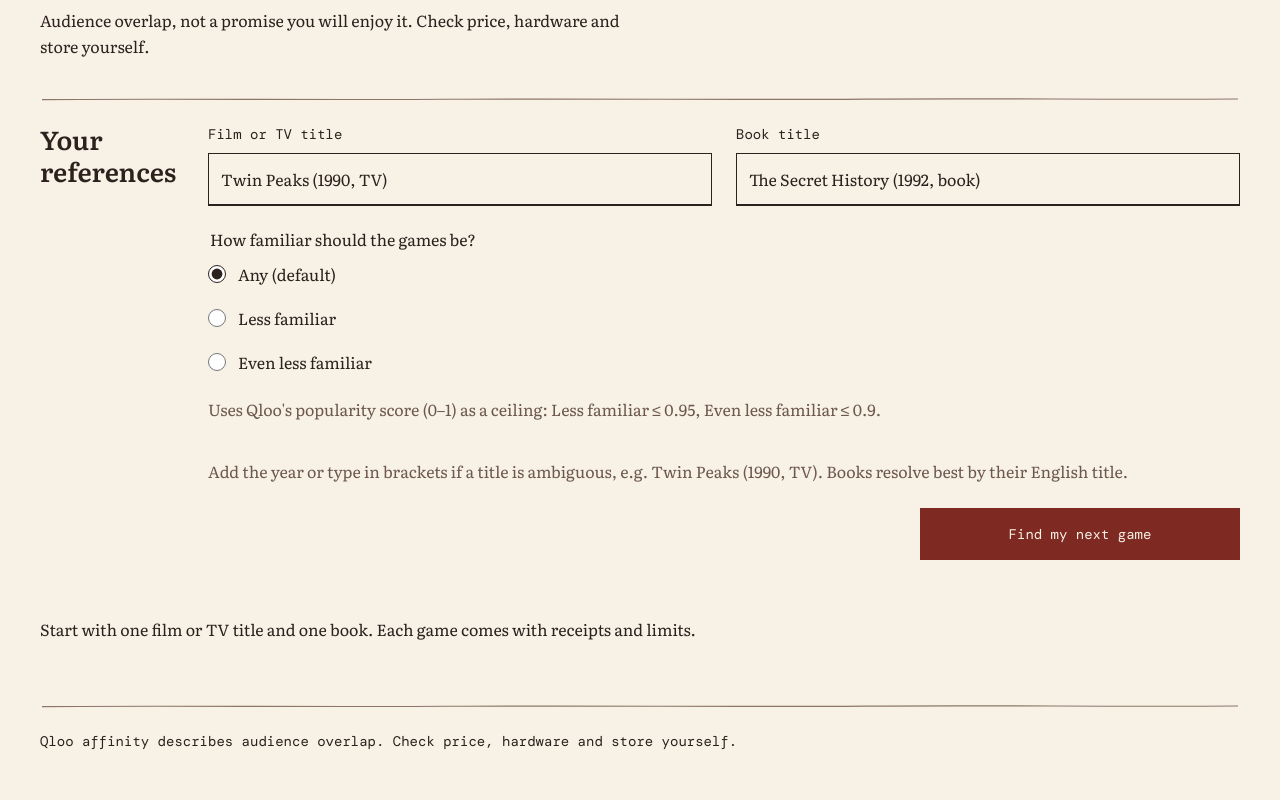
shows the Demo LLM budget reached for this month; cached example still available error
(page scrolled)
Click the button "Find my next game" at (1080, 534), box [920,508,1240,560]
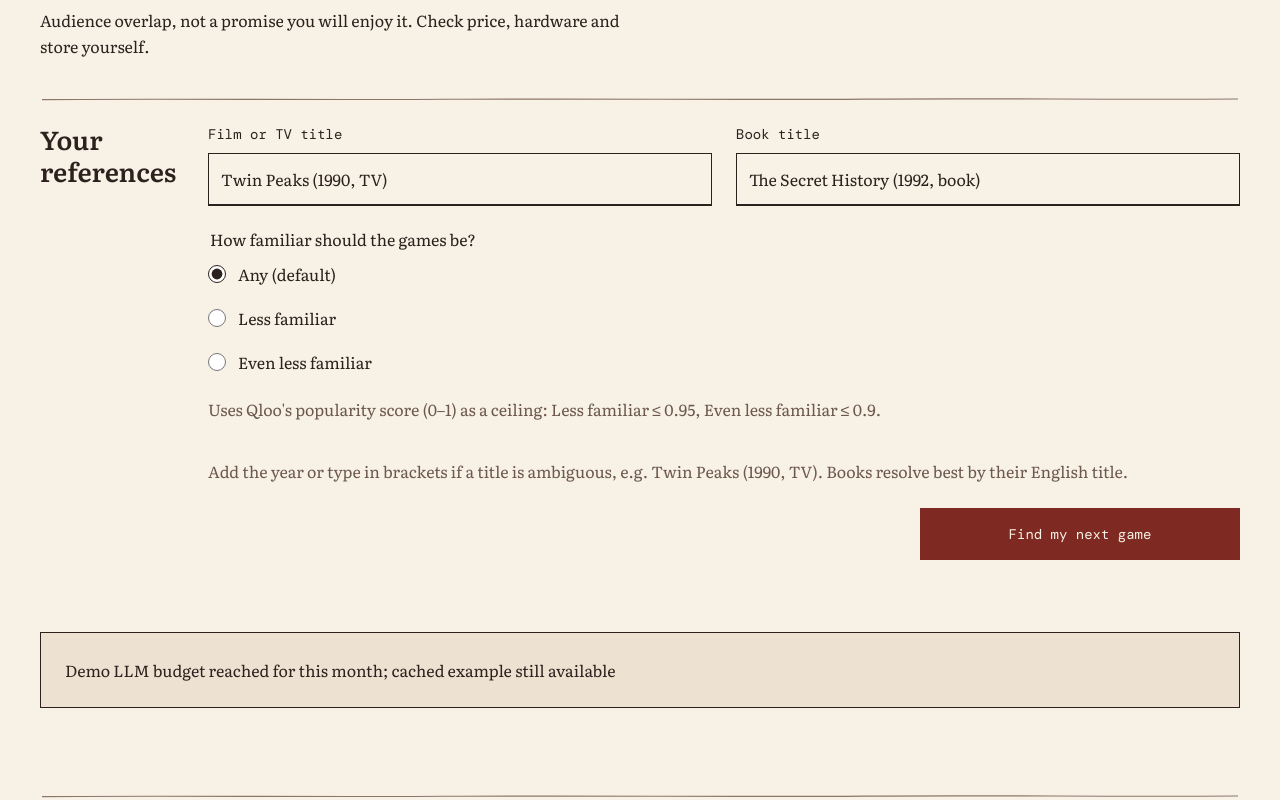
Expected: the message reads "Demo LLM budget reached for this month; cached example still available", [65,658,616,682]
